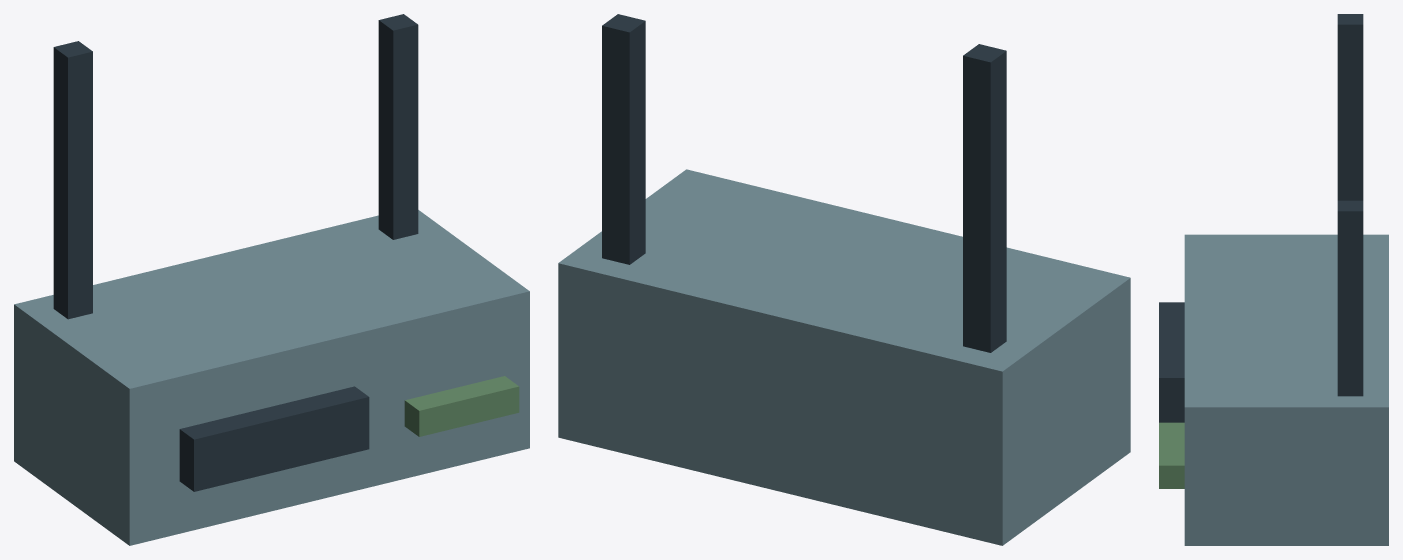
Rendered from telecom-03.glb.
3 renders of one model, left to right at view 1: azimuth 30°, elevation 25°; view 2: azimuth 150°, elevation 25°; view 3: azimuth 270°, elevation 25°, orthographic. The views are drawn at different scales.
Visible parts, largest first — view 1: Fiber router; view 2: Fiber router; view 3: Fiber router.
Part boxes in pixels (x1=…): Fiber router: x1=14, y1=14, x2=529, y2=545; Fiber router: x1=558, y1=14, x2=1130, y2=545; Fiber router: x1=1159, y1=14, x2=1388, y2=545.
Size of the model in its own units: 1.28 by 1.28 by 0.72.
